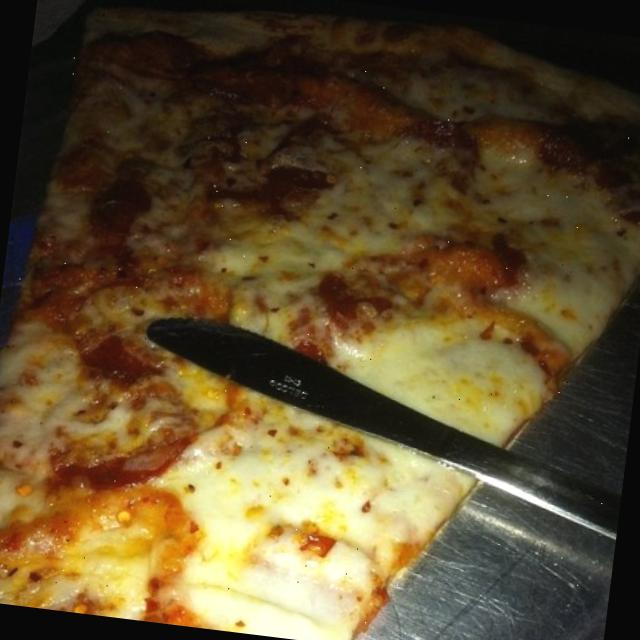pizza: (0, 16, 640, 640)
